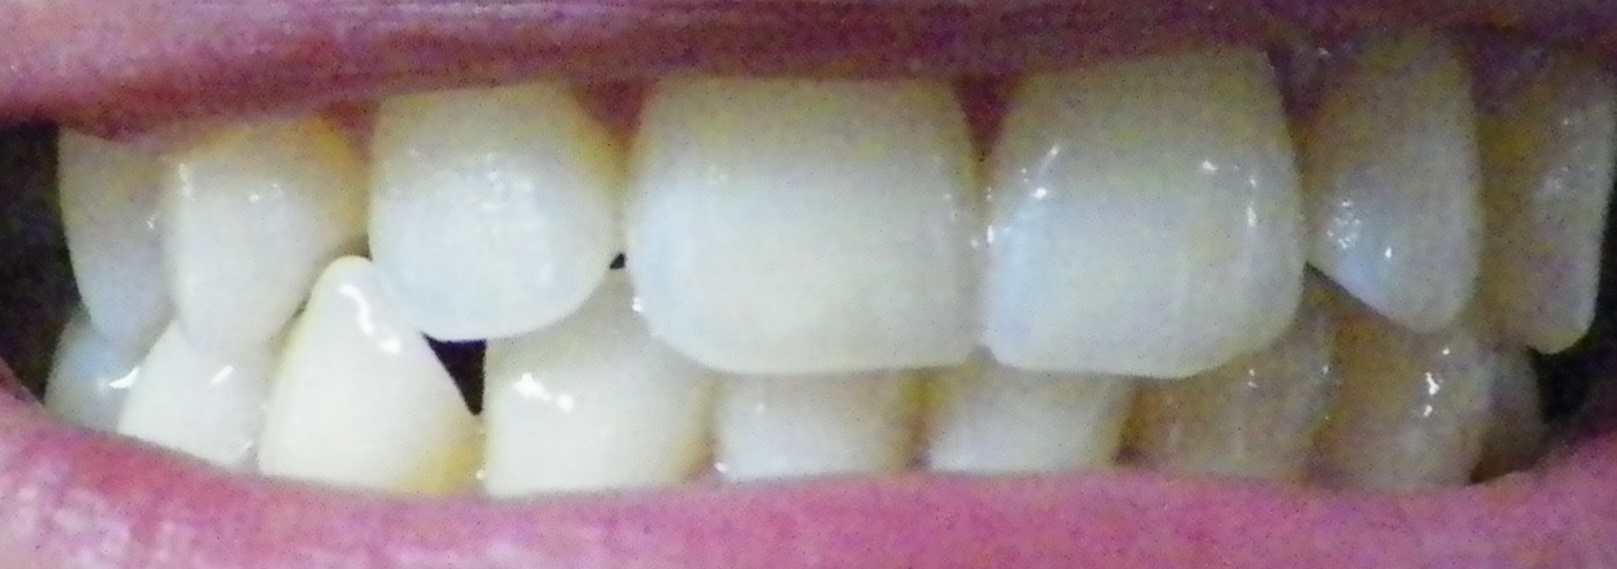boca: (26, 67, 1612, 484)
